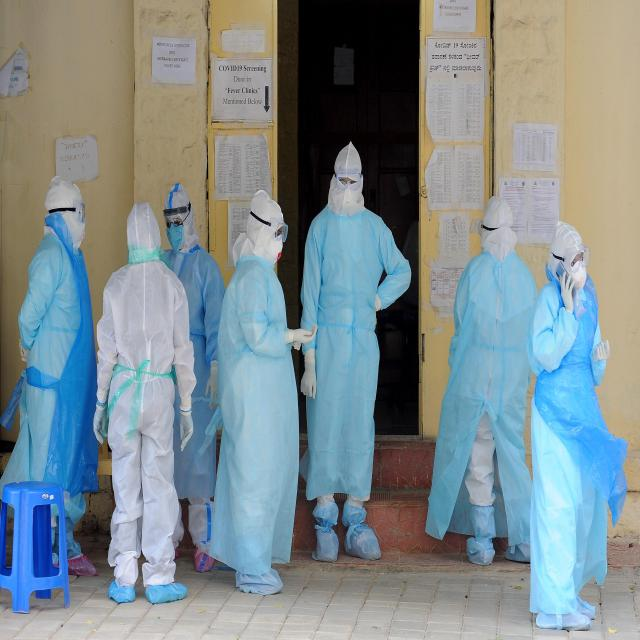Coverall: (512, 230, 621, 640), (93, 193, 194, 603), (302, 127, 387, 572), (3, 171, 108, 526), (220, 154, 306, 584), (148, 169, 228, 538), (455, 190, 522, 563)
Gloves: (168, 396, 206, 478), (580, 316, 611, 377), (282, 314, 330, 350), (294, 335, 321, 394), (94, 397, 114, 453), (561, 263, 576, 316)
Goggles: (58, 186, 96, 231), (324, 167, 376, 191), (560, 241, 592, 274), (260, 214, 292, 237)
Mask: (329, 181, 364, 217), (265, 234, 290, 263), (566, 266, 591, 293), (165, 225, 189, 251)
